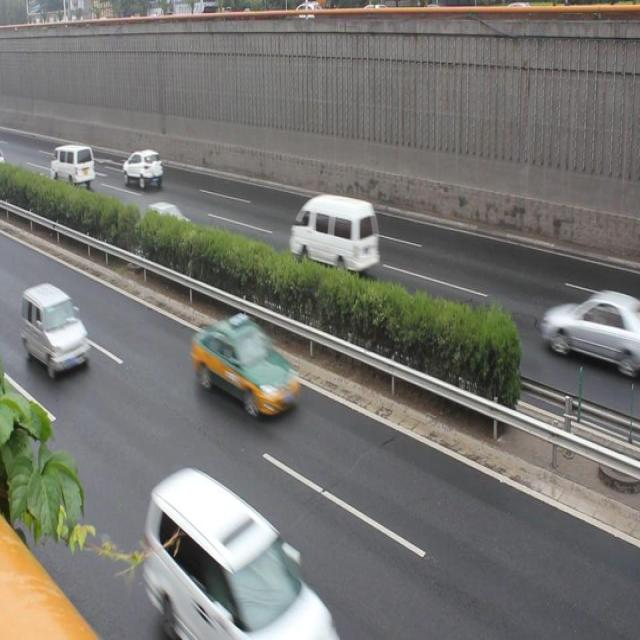car: (148, 467, 336, 640), (196, 310, 302, 418), (534, 285, 640, 384), (23, 276, 89, 372), (145, 193, 191, 240), (121, 147, 166, 193)
truck: (290, 190, 381, 283)
